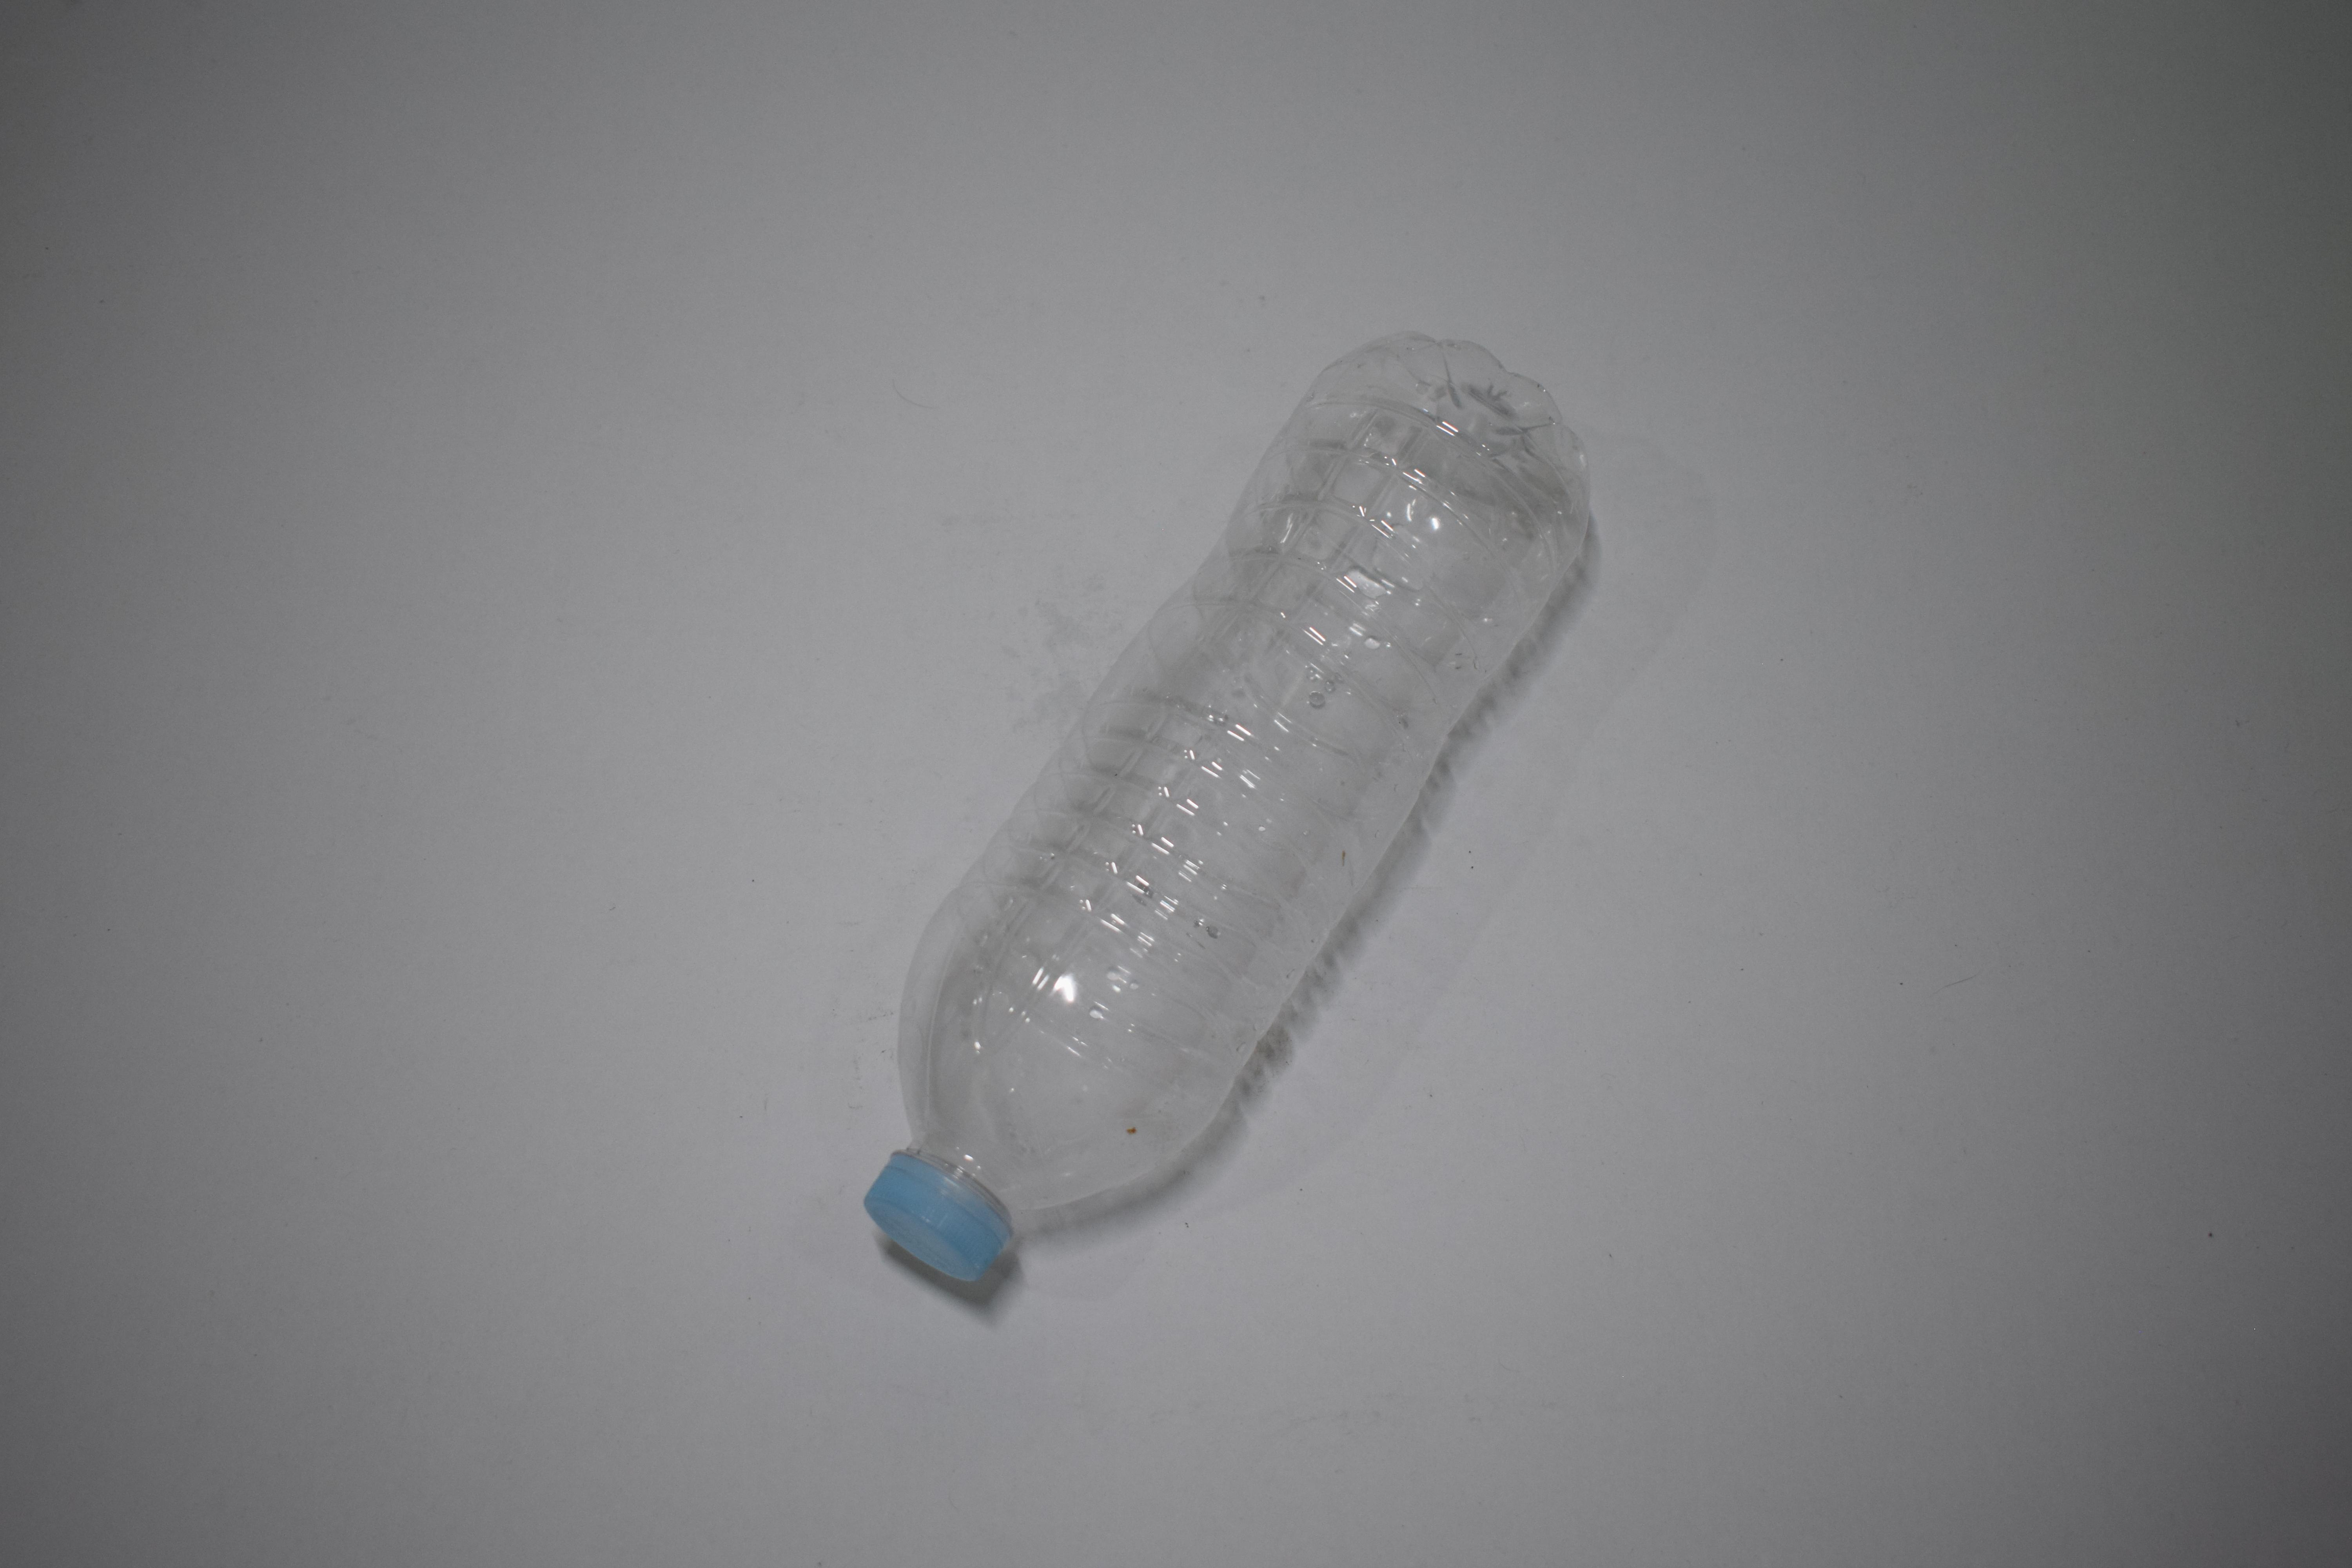bottle: (0, 0, 416, 513)
